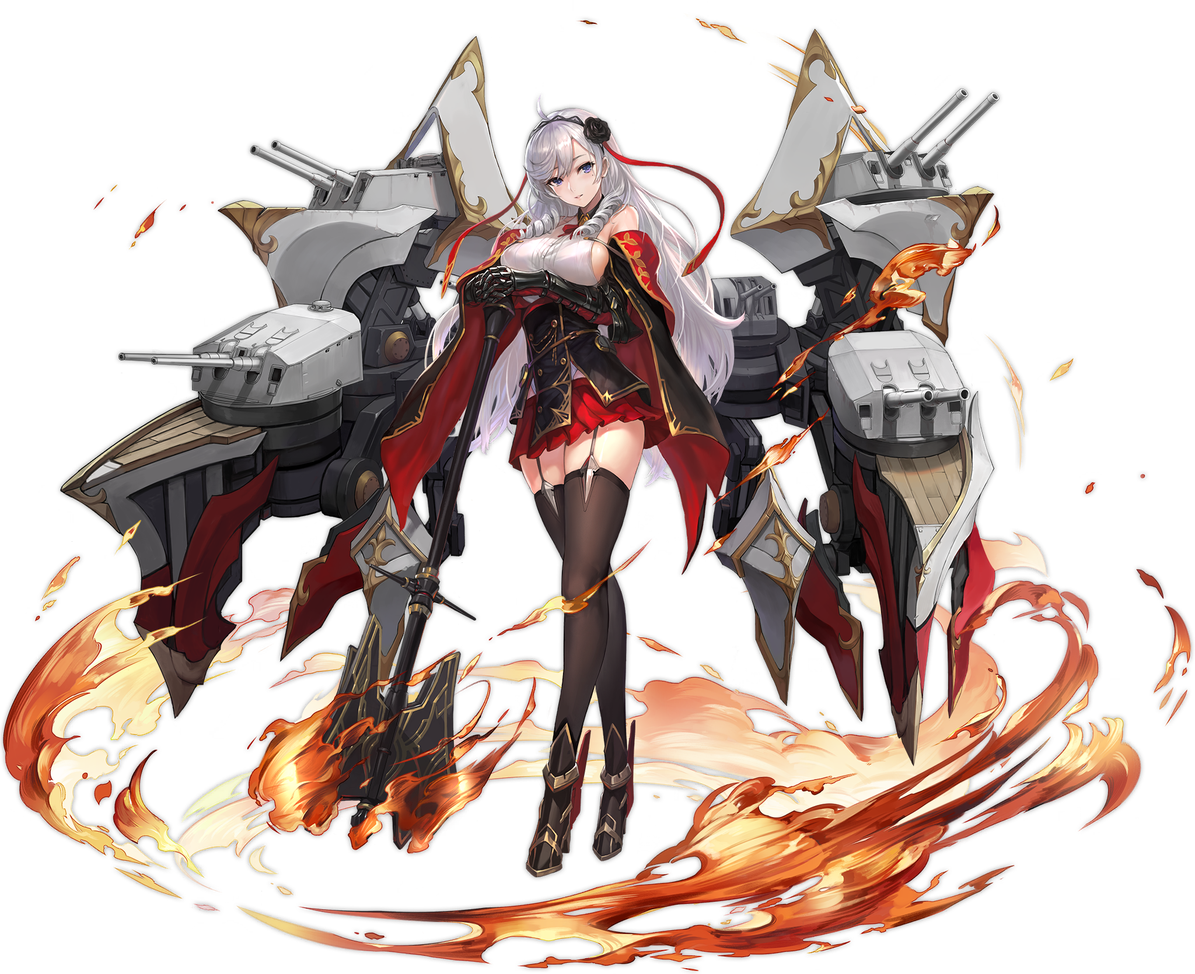person: (695, 38, 1114, 801)
